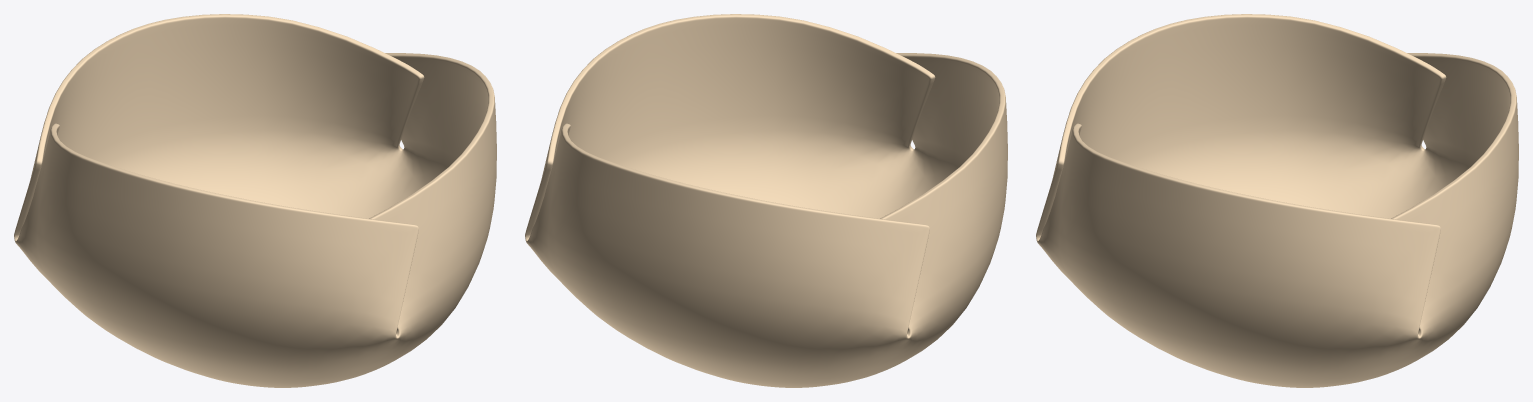
Rendered from annvanhoey_folded_bowl_m_main_02_fbx_upZ.fbx.
3 renders of one model, left to right at view 1: azimuth 30°, elevation 25°; view 2: azimuth 150°, elevation 25°; view 3: azimuth 270°, elevation 25°, orthographic.
Parts seen in each view (by area): view 1: annvanhoey_folded_bowl_m; view 2: annvanhoey_folded_bowl_m; view 3: annvanhoey_folded_bowl_m.
Part boxes in pixels (bbox=[...]): annvanhoey_folded_bowl_m: bbox=[14, 14, 496, 387]; annvanhoey_folded_bowl_m: bbox=[525, 14, 1007, 387]; annvanhoey_folded_bowl_m: bbox=[1036, 14, 1518, 387].
Size of the model in its own units: 20.25 by 21.08 by 12.05.
